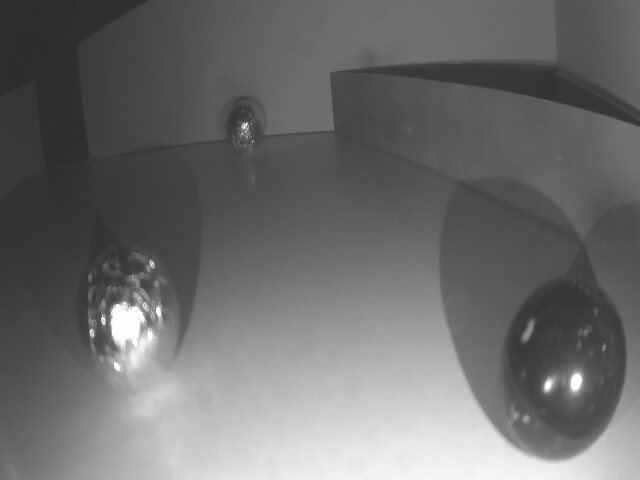Dead: (499, 277, 630, 464)
Green: (329, 70, 640, 266)
Live: (73, 251, 184, 396), (225, 100, 266, 154)
